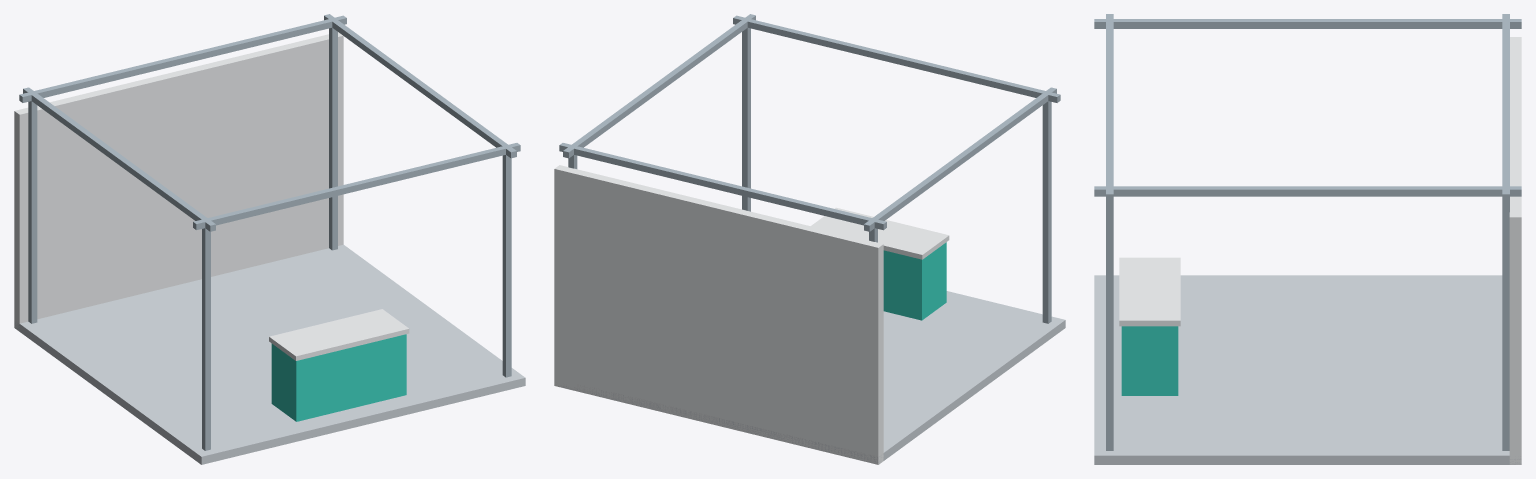
3 views of the same model, side by side, from view 1: azimuth 30°, elevation 25°; view 2: azimuth 150°, elevation 25°; view 3: azimuth 270°, elevation 25° (orthographic). The views are drawn at different scales.
Parts seen in each view (by area): view 1: Exhibition Booth Concept; view 2: Exhibition Booth Concept; view 3: Exhibition Booth Concept.
Part boxes in pixels (x1,y1,x2,y2): Exhibition Booth Concept: (14,14,525,464); Exhibition Booth Concept: (554,14,1065,464); Exhibition Booth Concept: (1094,14,1521,464).
Bounding box in the file's own units: 5 × 3.49 × 5.
